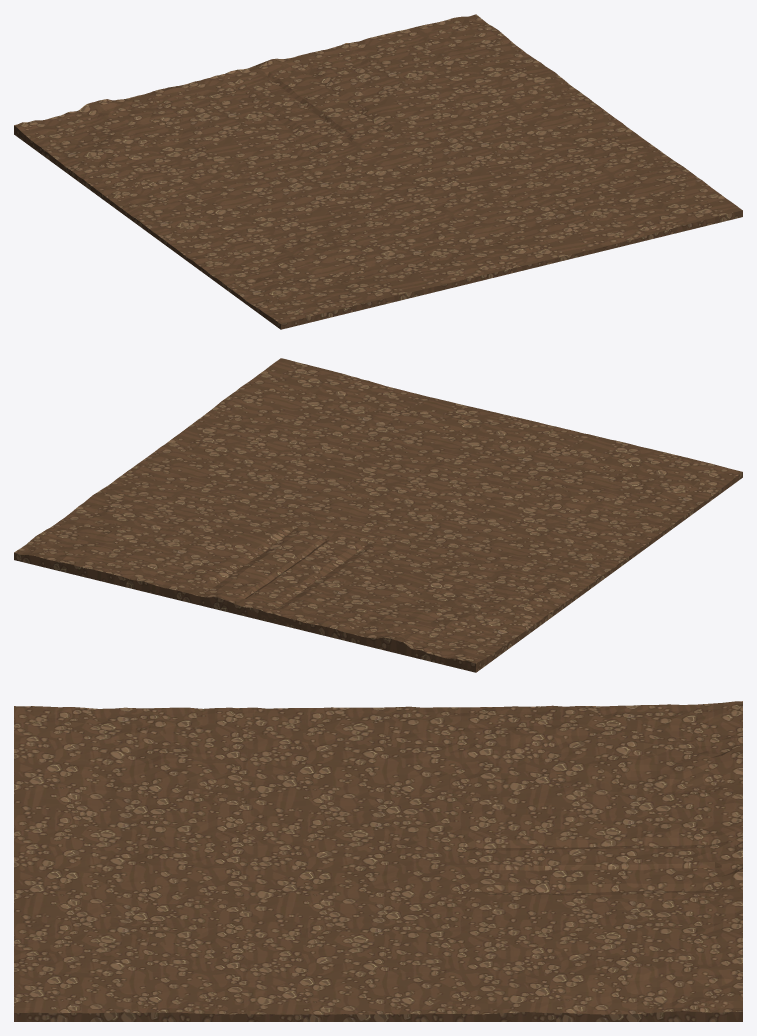
The model's file is TERRR.fbx.
The picture shows the model from 3 angles, top to bottom: view 1: azimuth 30°, elevation 25°; view 2: azimuth 150°, elevation 25°; view 3: azimuth 270°, elevation 25°; orthographic projection. The views are drawn at different scales.
Parts seen in each view (by area): view 1: terreno; view 2: terreno; view 3: terreno.
Boxes of the visible parts, <box> form: terreno: <box>14,14,742,329</box>; terreno: <box>14,358,742,672</box>; terreno: <box>14,701,742,1021</box>.
Size of the model in its own units: 2339 by 63.89 by 2340.
